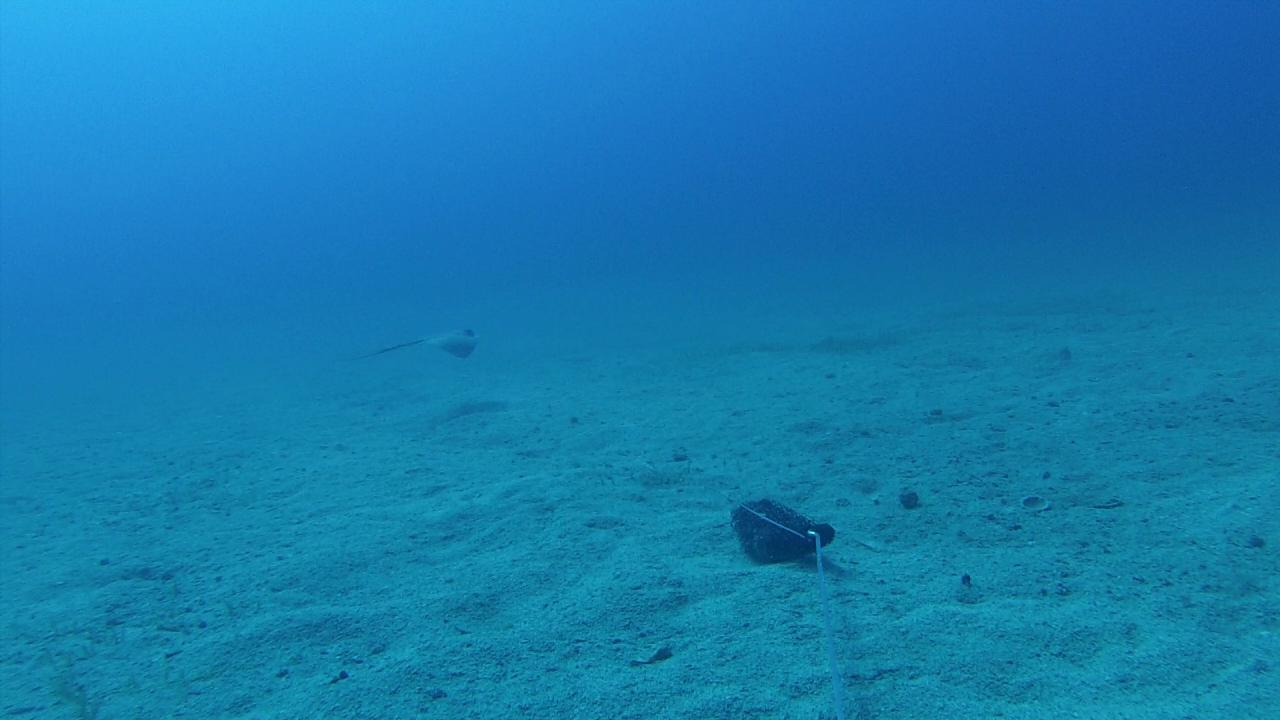dasyatis: (351, 324, 482, 360)
